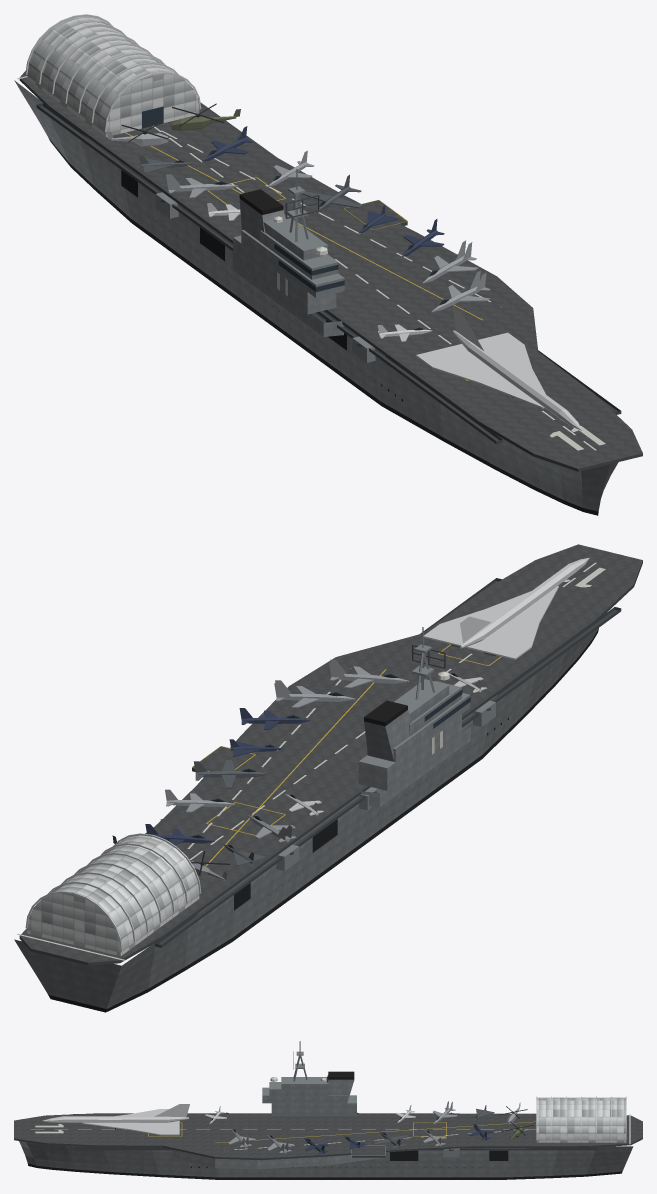
File: intrepid.glb
3 views of the same model, one above another, from view 1: azimuth 30°, elevation 25°; view 2: azimuth 150°, elevation 25°; view 3: azimuth 270°, elevation 25° (orthographic). The views are drawn at different scales.
Parts seen in each view (by area): view 1: intrepid; view 2: intrepid; view 3: intrepid.
Boxes of the visible parts, x1,y1,x2,y2 form: intrepid: (14, 14, 642, 515); intrepid: (14, 544, 642, 1012); intrepid: (14, 1041, 642, 1179).
Bounding box in the file's own units: 51.21 × 50.01 × 266.
Materials: 4 (4 with a texture image).
